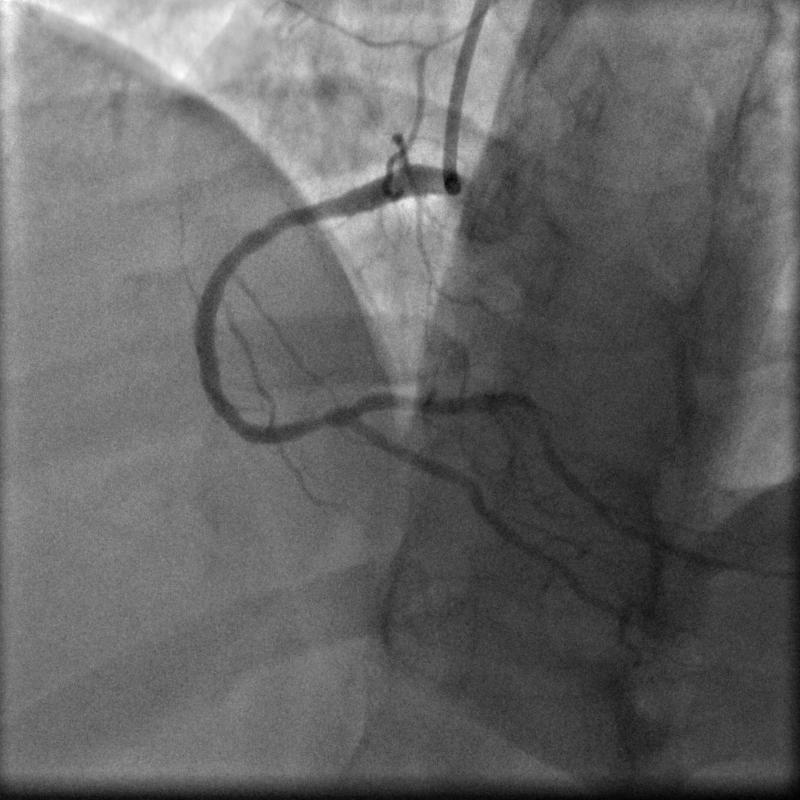Stenosis: (309, 409, 339, 430)
